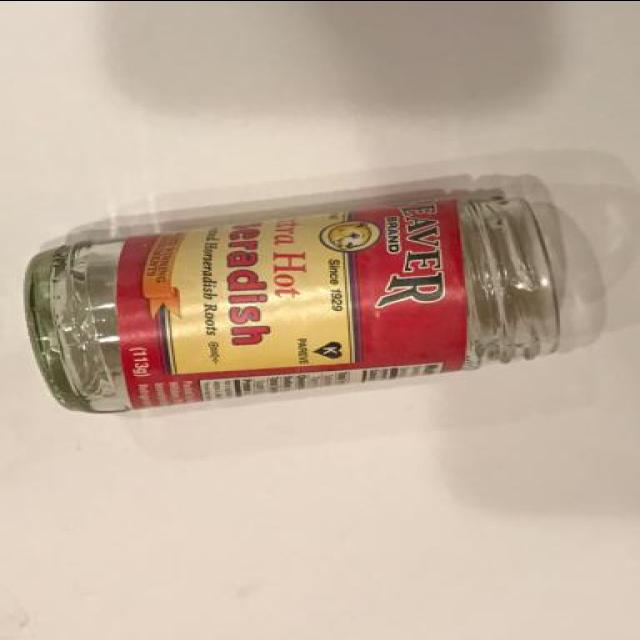litter: (26, 197, 562, 415)
